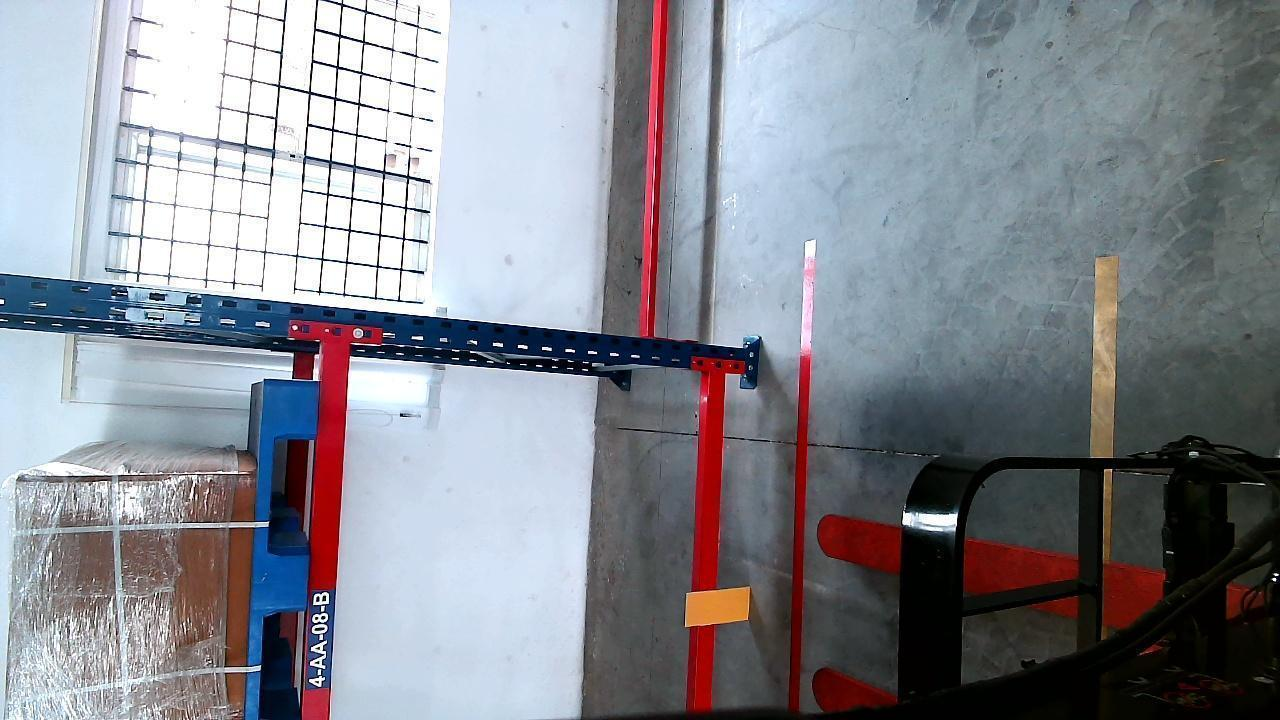red_line: (786, 235, 815, 714)
yellow_line: (1093, 253, 1120, 653)
